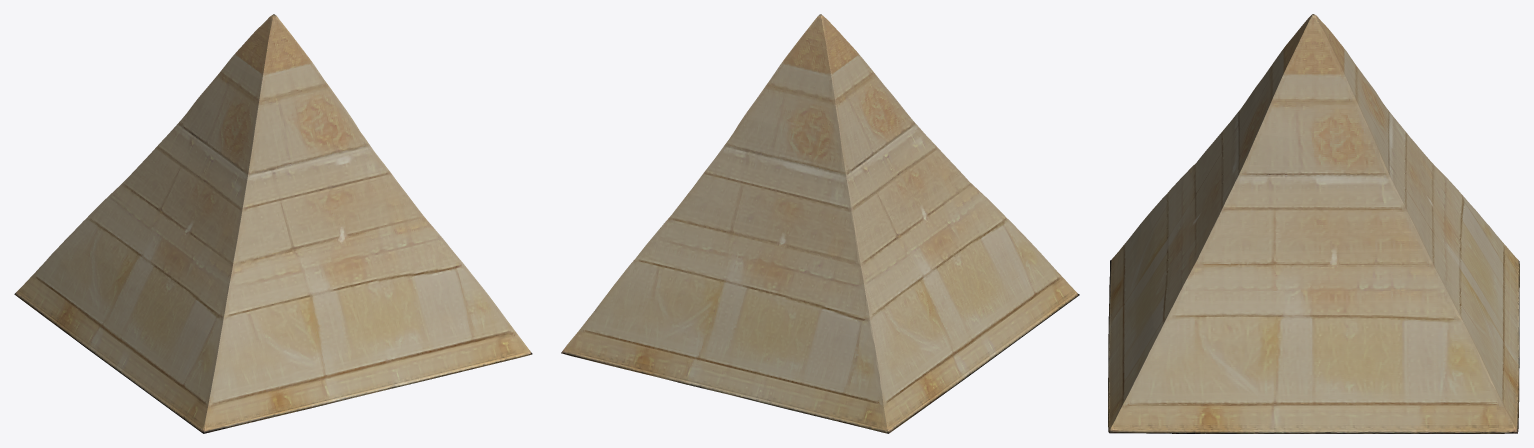
The model's file is triangulo3d.glb.
3 views of the same model, side by side, from view 1: azimuth 30°, elevation 25°; view 2: azimuth 150°, elevation 25°; view 3: azimuth 270°, elevation 25° (orthographic). The views are drawn at different scales.
Visible parts, largest first — view 1: world; view 2: world; view 3: world.
Part boxes in pixels (x1=…): world: x1=14, y1=14, x2=532, y2=433; world: x1=561, y1=14, x2=1079, y2=433; world: x1=1108, y1=14, x2=1519, y2=433.
Size of the model in its own units: 0.4322 by 0.3874 by 0.4336.
1 material, 1 textured.
